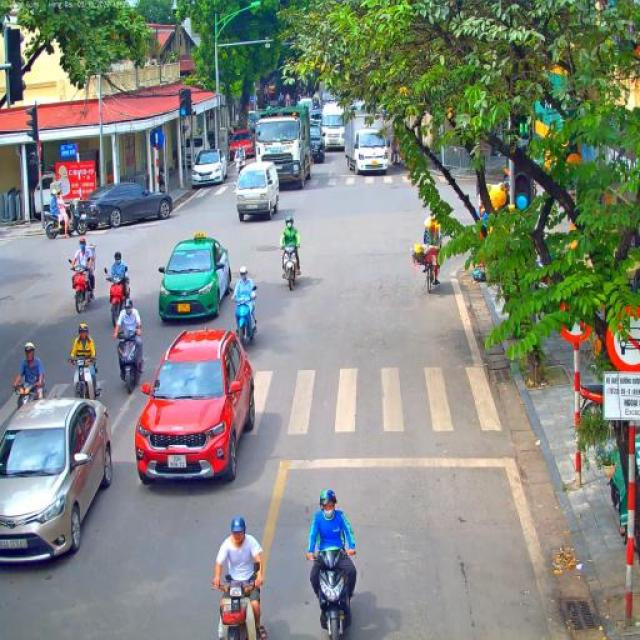car: (134, 328, 256, 487), (0, 397, 114, 567), (158, 232, 232, 323), (78, 182, 174, 229), (191, 148, 228, 186), (230, 130, 254, 161), (309, 125, 326, 164), (311, 109, 323, 126)
motorcycle: (305, 540, 355, 640), (212, 561, 260, 640), (116, 328, 145, 394), (230, 286, 259, 346), (43, 201, 87, 240), (104, 267, 131, 328), (68, 258, 96, 314), (68, 358, 100, 400), (14, 374, 46, 408), (278, 245, 300, 291), (233, 152, 246, 180), (158, 165, 166, 191)
truck: (254, 105, 314, 189), (344, 110, 388, 176), (235, 160, 280, 222), (320, 102, 346, 153), (302, 95, 313, 107)
